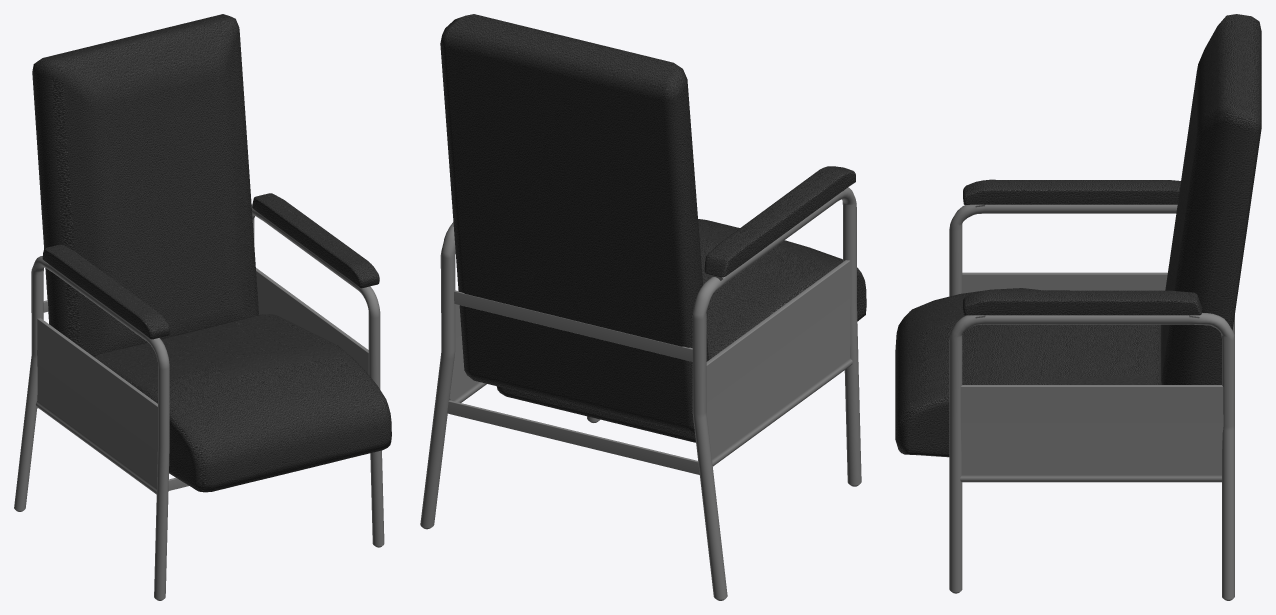
File: Chair.fbx
The picture shows the model from 3 angles, left to right: view 1: azimuth 30°, elevation 25°; view 2: azimuth 150°, elevation 25°; view 3: azimuth 270°, elevation 25°; orthographic projection. The views are drawn at different scales.
Visible parts, largest first — view 1: chair; view 2: chair; view 3: chair.
Boxes of the visible parts, left/top/right/bottom form: chair: left=14, top=14, right=391, bottom=600; chair: left=420, top=14, right=866, bottom=600; chair: left=895, top=14, right=1261, bottom=600.
Size of the model in its own units: 67.97 by 112 by 77.97.
2 materials, 1 textured.
